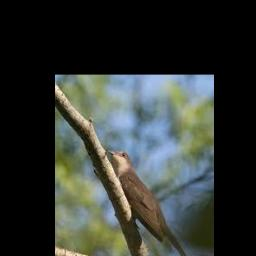Cuckoo: (107, 149, 198, 256)
